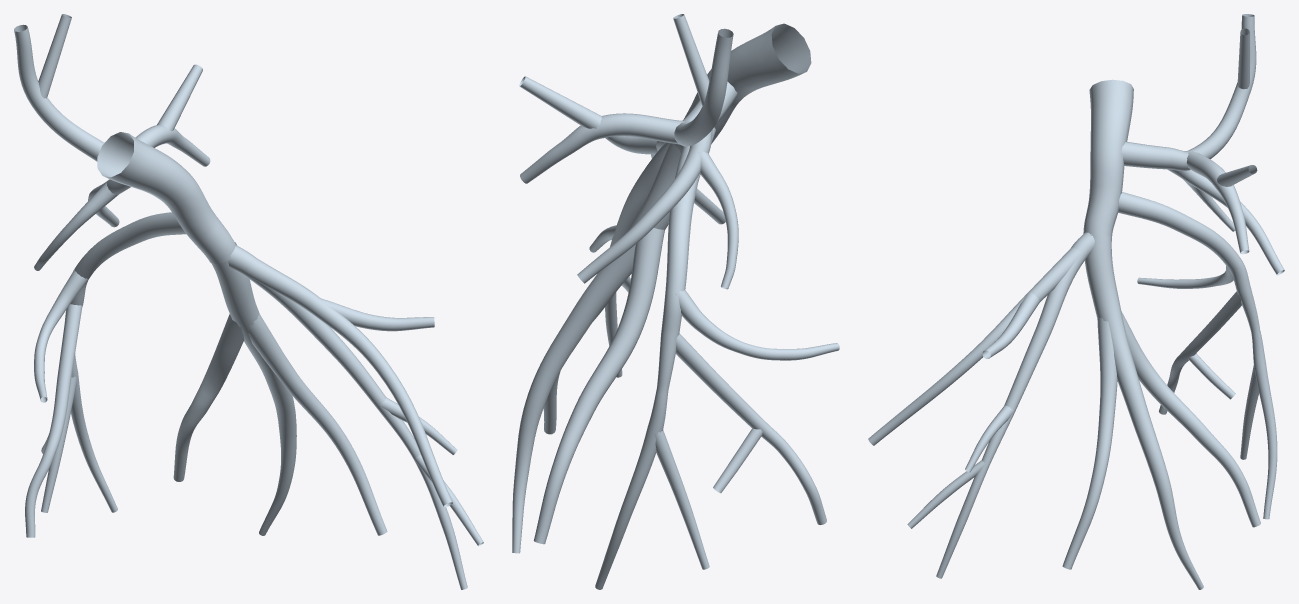
Rendered from visceras-left-inferior-lobar-bronchus.glb.
3 renders of one model, left to right at view 1: azimuth 30°, elevation 25°; view 2: azimuth 150°, elevation 25°; view 3: azimuth 270°, elevation 25°, orthographic. The views are drawn at different scales.
Parts seen in each view (by area): view 1: Medial basal segmental bronchus of left lung (BVII), Lateral basal segmental bronchus of left lung (BIX), Superior segmental bronchus of left lung (BVI), Left inferior lobar bronchus, Anterior basal segmental bronchus of left lung (BVIII), (Anteromedial basal segmental bronchus of left lung), Posterior basal segmental bronchus of left lung (BX); view 2: Medial basal segmental bronchus of left lung (BVII), Superior segmental bronchus of left lung (BVI), Lateral basal segmental bronchus of left lung (BIX), Posterior basal segmental bronchus of left lung (BX), Left inferior lobar bronchus, (Anteromedial basal segmental bronchus of left lung), Anterior basal segmental bronchus of left lung (BVIII); view 3: Lateral basal segmental bronchus of left lung (BIX), Medial basal segmental bronchus of left lung (BVII), Superior segmental bronchus of left lung (BVI), (Anteromedial basal segmental bronchus of left lung), Left inferior lobar bronchus, Anterior basal segmental bronchus of left lung (BVIII), Posterior basal segmental bronchus of left lung (BX).
Part boxes in pixels (left/top/right/bottom): Medial basal segmental bronchus of left lung (BVII): left=25, top=212, right=185, bottom=537; Lateral basal segmental bronchus of left lung (BIX): left=211, top=242, right=387, bottom=535; Superior segmental bronchus of left lung (BVI): left=14, top=14, right=210, bottom=270; Left inferior lobar bronchus: left=97, top=132, right=236, bottom=263; Anterior basal segmental bronchus of left lung (BVIII): left=247, top=258, right=452, bottom=507; (Anteromedial basal segmental bronchus of left lung): left=228, top=245, right=483, bottom=589; Posterior basal segmental bronchus of left lung (BX): left=173, top=314, right=244, bottom=481; Medial basal segmental bronchus of left lung (BVII): left=595, top=127, right=839, bottom=589; Superior segmental bronchus of left lung (BVI): left=519, top=14, right=738, bottom=289; Lateral basal segmental bronchus of left lung (BIX): left=512, top=143, right=681, bottom=553; Posterior basal segmental bronchus of left lung (BX): left=533, top=228, right=664, bottom=544; Left inferior lobar bronchus: left=674, top=23, right=811, bottom=152; (Anteromedial basal segmental bronchus of left lung): left=589, top=142, right=670, bottom=377; Anterior basal segmental bronchus of left lung (BVIII): left=605, top=136, right=725, bottom=224; Lateral basal segmental bronchus of left lung (BIX): left=1062, top=235, right=1203, bottom=589; Medial basal segmental bronchus of left lung (BVII): left=1118, top=192, right=1277, bottom=519; Superior segmental bronchus of left lung (BVI): left=1121, top=14, right=1284, bottom=275; (Anteromedial basal segmental bronchus of left lung): left=907, top=232, right=1094, bottom=578; Left inferior lobar bronchus: left=1083, top=79, right=1133, bottom=236; Anterior basal segmental bronchus of left lung (BVIII): left=868, top=247, right=1081, bottom=445; Posterior basal segmental bronchus of left lung (BX): left=1121, top=311, right=1260, bottom=527.
Bounding box in the file's own units: 0.1039 × 0.1681 × 0.131.
